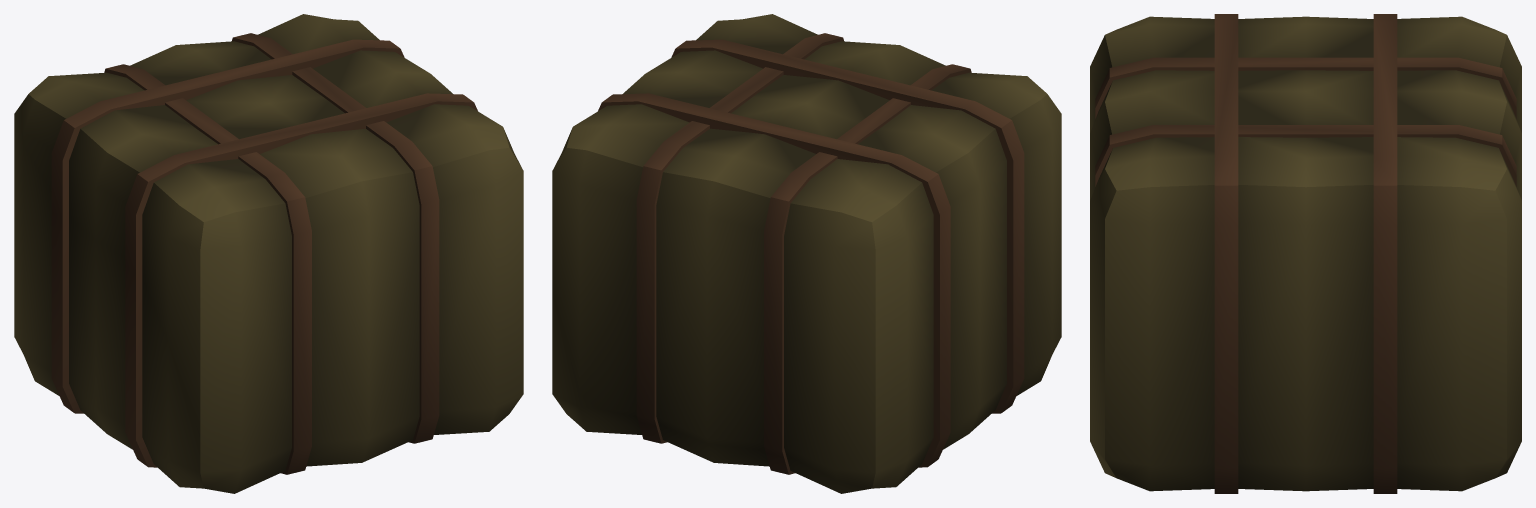
The model's file is pq_ballot_2.glb.
The picture shows the model from 3 angles, left to right: view 1: azimuth 30°, elevation 25°; view 2: azimuth 150°, elevation 25°; view 3: azimuth 270°, elevation 25°; orthographic projection. The views are drawn at different scales.
Visible parts, largest first — view 1: Package_2; view 2: Package_2; view 3: Package_2.
Part boxes in pixels (box(x1,y1,x2,y2)): Package_2: box(14, 14, 523, 493); Package_2: box(552, 14, 1061, 493); Package_2: box(1090, 14, 1521, 493).
Size of the model in its own units: 0.6603 by 0.55 by 0.6531.
